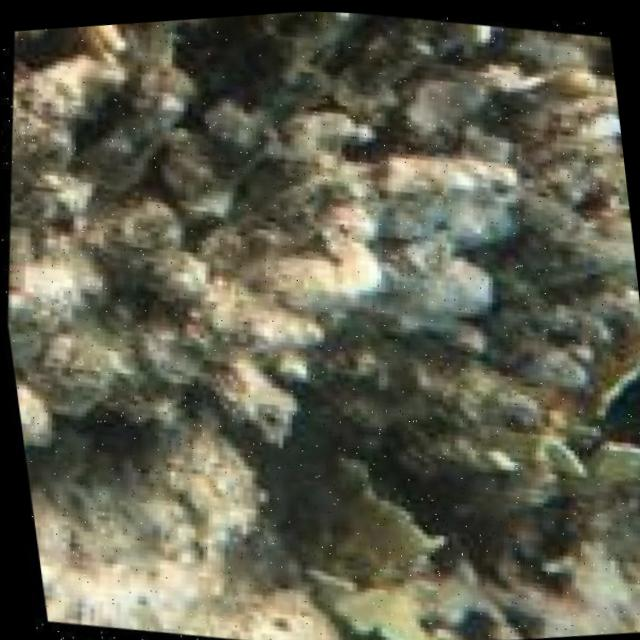Dead Coral: (4, 24, 640, 618)
